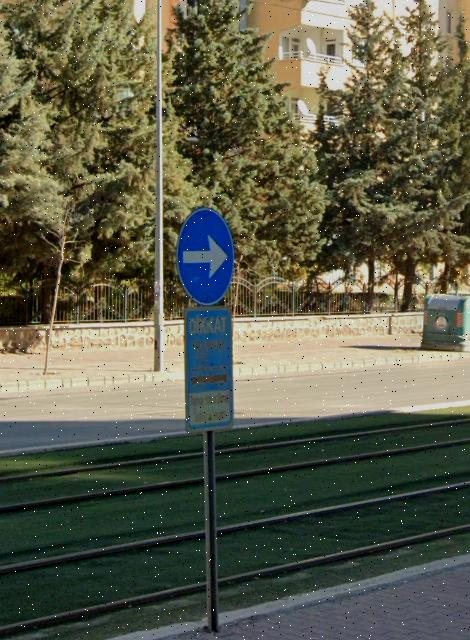turnright: (180, 212, 234, 303)
